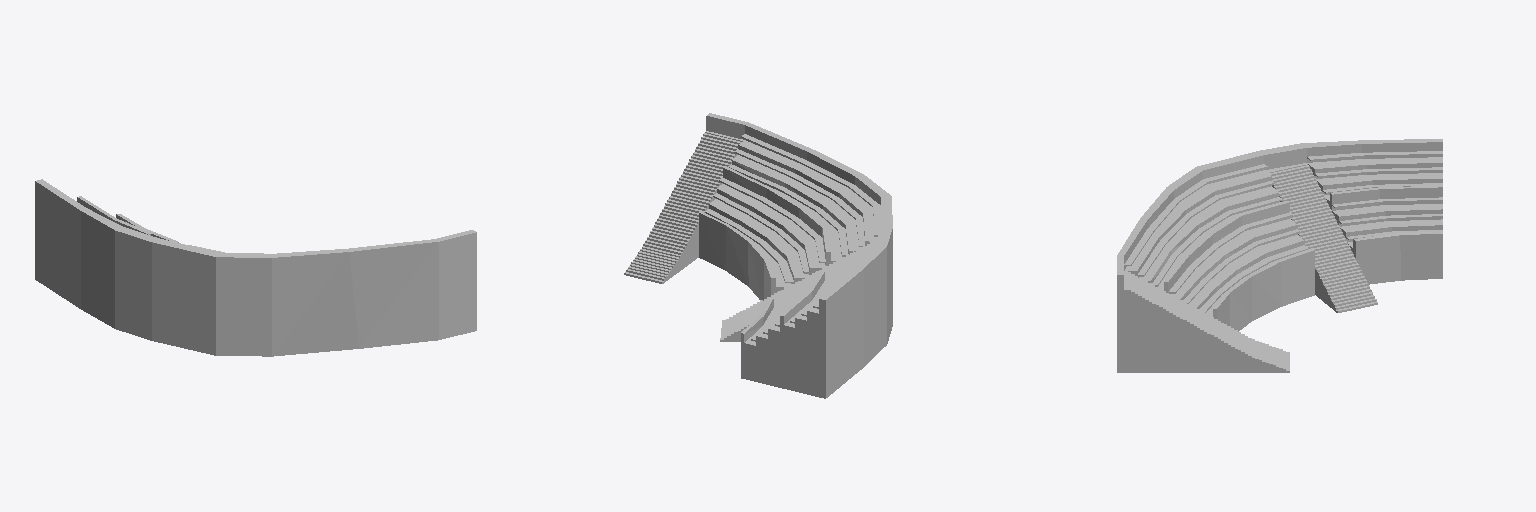
Rendered from myTribune.obj.
3 views of the same model, side by side, from view 1: azimuth 30°, elevation 25°; view 2: azimuth 150°, elevation 25°; view 3: azimuth 270°, elevation 25° (orthographic).
Visible parts, largest first — view 1: Cylindre_Cylindre.001; view 2: Cylindre_Cylindre.001; view 3: Cylindre_Cylindre.001.
Boxes of the visible parts, box(x1,y1,x2,y2) form: Cylindre_Cylindre.001: box(35, 179, 476, 356); Cylindre_Cylindre.001: box(624, 113, 892, 398); Cylindre_Cylindre.001: box(1117, 139, 1442, 372).
Size of the model in its own units: 233 by 78.8 by 236.